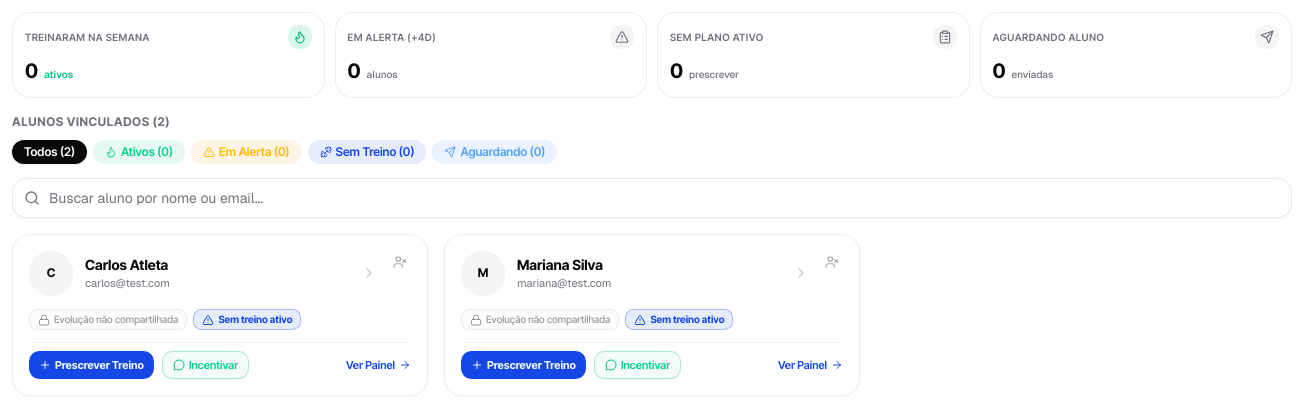
Scenario: TASK 6.2A — Coach Athlete Overview & Details UI › 1. AthletesList — Busca em tempo real e Navegação para Detalhes › filtra alunos em tempo real por email
The image size is (1304, 413).
Type "carlos@test.com" into the field with placeholder "Buscar aluno por nome ou email..." at (652, 198), box x1=12 y1=178 x2=1292 y2=218
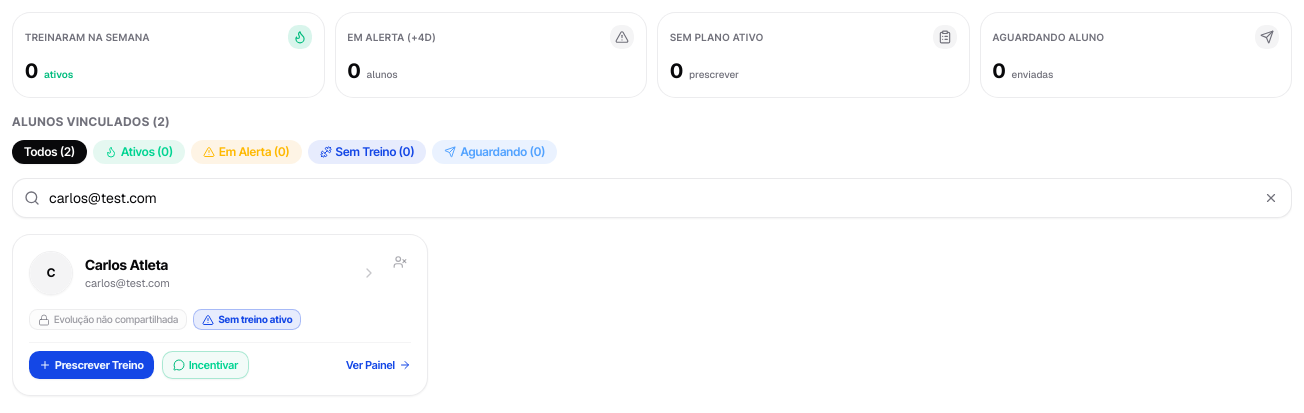
Expected: the text "Carlos Atleta" is shown, x1=85 y1=255 x2=168 y2=275
Result: the link "Mariana Silva" is gone
